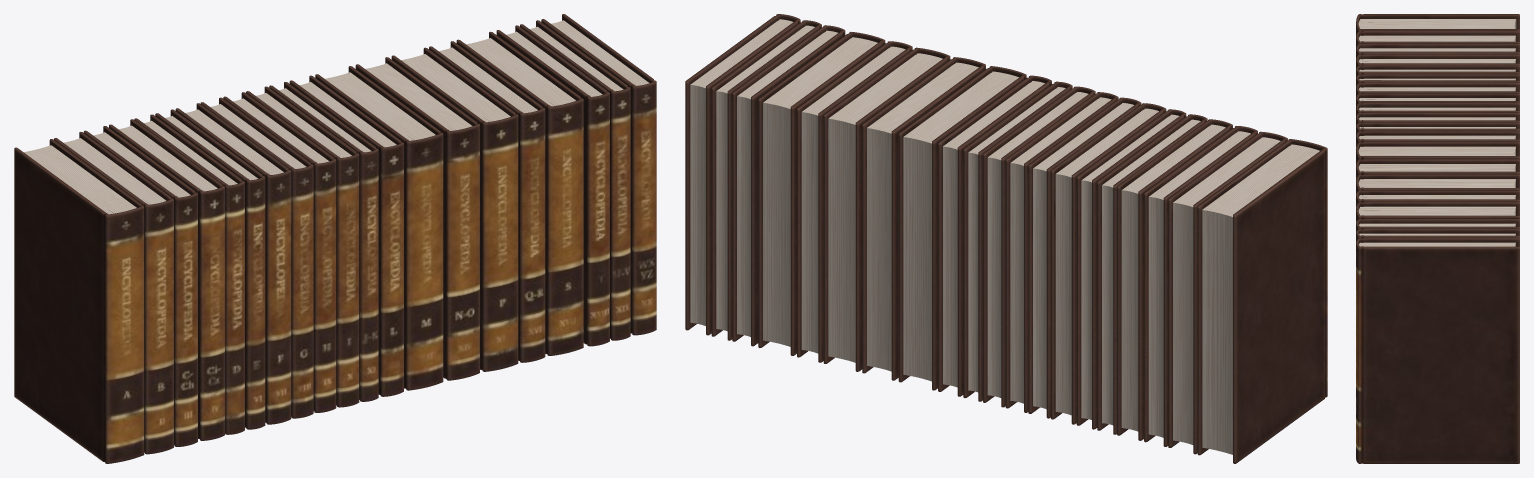
Rendered from book_encyclopedia_set_01_1k.gltf.
3 views of the same model, side by side, from view 1: azimuth 30°, elevation 25°; view 2: azimuth 150°, elevation 25°; view 3: azimuth 270°, elevation 25° (orthographic). The views are drawn at different scales.
Visible parts, largest first — view 1: book_encyclopedia_set_01_book01, book_encyclopedia_set_01_book13, book_encyclopedia_set_01_book15, book_encyclopedia_set_01_book17, book_encyclopedia_set_01_book14, book_encyclopedia_set_01_book02, book_encyclopedia_set_01_book16, book_encyclopedia_set_01_book04, book_encyclopedia_set_01_book18, book_encyclopedia_set_01_book20, book_encyclopedia_set_01_book07, book_encyclopedia_set_01_book12 (+8 smaller); view 2: book_encyclopedia_set_01_book01, book_encyclopedia_set_01_book13, book_encyclopedia_set_01_book15, book_encyclopedia_set_01_book17, book_encyclopedia_set_01_book14, book_encyclopedia_set_01_book02, book_encyclopedia_set_01_book04, book_encyclopedia_set_01_book16, book_encyclopedia_set_01_book18, book_encyclopedia_set_01_book20, book_encyclopedia_set_01_book07, book_encyclopedia_set_01_book12 (+8 smaller); view 3: book_encyclopedia_set_01_book20, book_encyclopedia_set_01_book13, book_encyclopedia_set_01_book01, book_encyclopedia_set_01_book17, book_encyclopedia_set_01_book15, book_encyclopedia_set_01_book14, book_encyclopedia_set_01_book02, book_encyclopedia_set_01_book16, book_encyclopedia_set_01_book03, book_encyclopedia_set_01_book12, book_encyclopedia_set_01_book07, book_encyclopedia_set_01_book04 (+8 smaller).
Boxes of the visible parts, x1=… form: book_encyclopedia_set_01_book01: x1=14, y1=139, x2=144, y2=463; book_encyclopedia_set_01_book13: x1=315, y1=66, x2=443, y2=390; book_encyclopedia_set_01_book15: x1=391, y1=47, x2=518, y2=371; book_encyclopedia_set_01_book17: x1=456, y1=31, x2=583, y2=355; book_encyclopedia_set_01_book14: x1=355, y1=57, x2=479, y2=380; book_encyclopedia_set_01_book02: x1=54, y1=132, x2=173, y2=454; book_encyclopedia_set_01_book16: x1=429, y1=41, x2=545, y2=362; book_encyclopedia_set_01_book04: x1=109, y1=119, x2=224, y2=440; book_encyclopedia_set_01_book18: x1=496, y1=25, x2=609, y2=346; book_encyclopedia_set_01_book20: x1=541, y1=14, x2=656, y2=335; book_encyclopedia_set_01_book07: x1=175, y1=103, x2=291, y2=424; book_encyclopedia_set_01_book12: x1=289, y1=75, x2=403, y2=396; book_encyclopedia_set_01_book01: x1=1197, y1=139, x2=1327, y2=463; book_encyclopedia_set_01_book13: x1=898, y1=66, x2=1026, y2=390; book_encyclopedia_set_01_book15: x1=823, y1=47, x2=950, y2=371; book_encyclopedia_set_01_book17: x1=758, y1=32, x2=885, y2=355; book_encyclopedia_set_01_book14: x1=862, y1=57, x2=985, y2=380; book_encyclopedia_set_01_book02: x1=1168, y1=131, x2=1287, y2=454; book_encyclopedia_set_01_book04: x1=1117, y1=119, x2=1232, y2=440; book_encyclopedia_set_01_book16: x1=797, y1=41, x2=912, y2=362; book_encyclopedia_set_01_book18: x1=732, y1=25, x2=845, y2=346; book_encyclopedia_set_01_book20: x1=685, y1=14, x2=800, y2=335; book_encyclopedia_set_01_book07: x1=1051, y1=103, x2=1166, y2=424; book_encyclopedia_set_01_book12: x1=938, y1=75, x2=1051, y2=396; book_encyclopedia_set_01_book20: x1=1356, y1=238, x2=1519, y2=463; book_encyclopedia_set_01_book13: x1=1356, y1=142, x2=1519, y2=164; book_encyclopedia_set_01_book01: x1=1356, y1=14, x2=1519, y2=35; book_encyclopedia_set_01_book17: x1=1356, y1=202, x2=1519, y2=222; book_encyclopedia_set_01_book15: x1=1356, y1=174, x2=1519, y2=194; book_encyclopedia_set_01_book14: x1=1356, y1=159, x2=1519, y2=180; book_encyclopedia_set_01_book02: x1=1356, y1=30, x2=1519, y2=47; book_encyclopedia_set_01_book16: x1=1356, y1=190, x2=1519, y2=208; book_encyclopedia_set_01_book03: x1=1356, y1=43, x2=1519, y2=58; book_encyclopedia_set_01_book12: x1=1356, y1=131, x2=1519, y2=148; book_encyclopedia_set_01_book07: x1=1356, y1=82, x2=1519, y2=96; book_encyclopedia_set_01_book04: x1=1356, y1=54, x2=1519, y2=68.
Bounding box in the file's own units: 0.5513 × 0.2374 × 0.1631.
2 materials, 2 textured.
